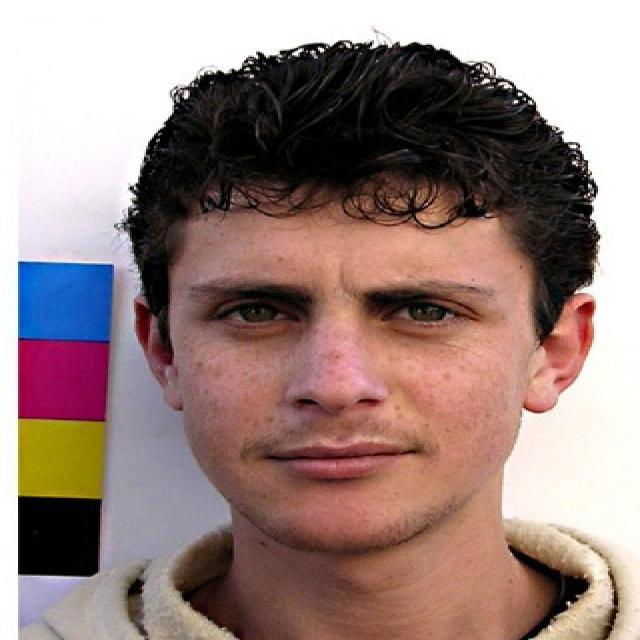Nonhelmet: (96, 20, 618, 569)
